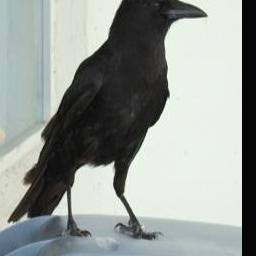Crow: (9, 0, 211, 244)
